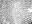person: (27, 8, 31, 15)
